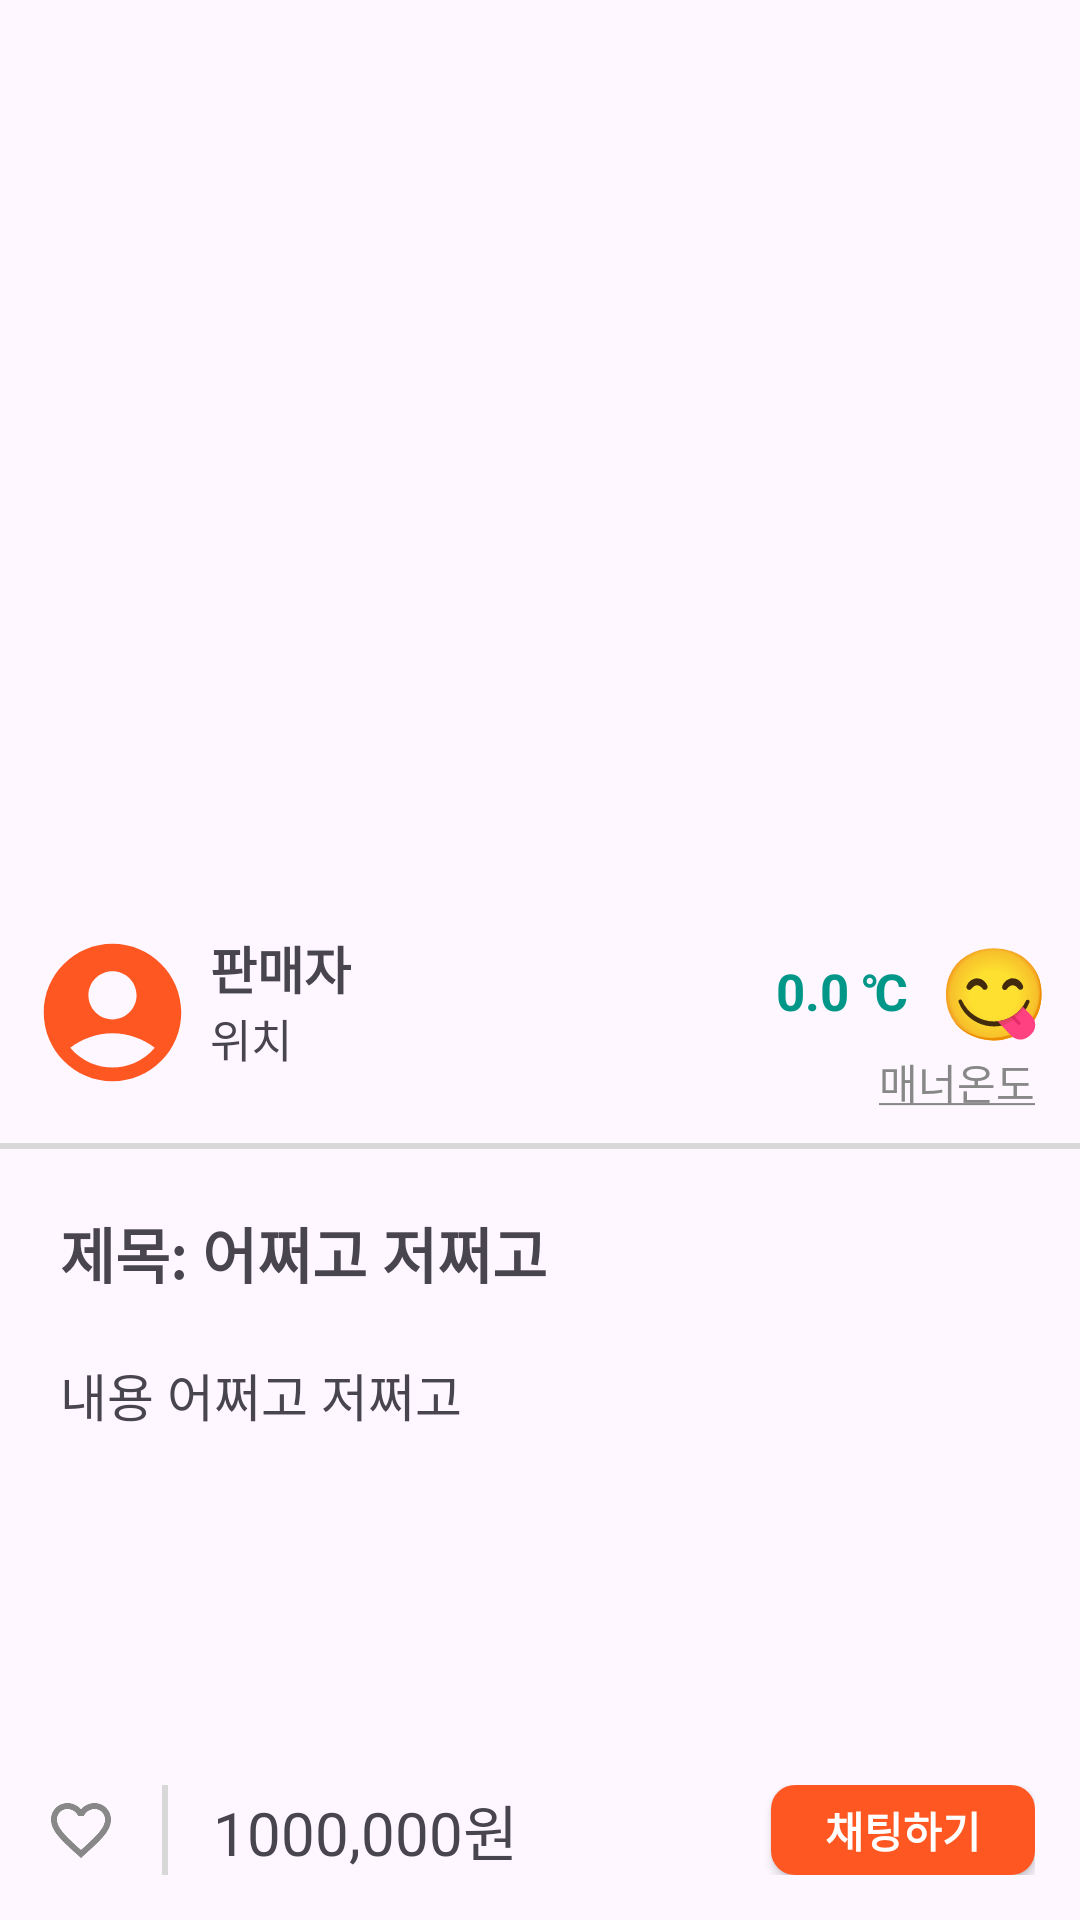

Icons on this 1080 x 1920 Android screen, each with the point to tap as [x,y]:
account circle: [112,1012]
favorite border: [81,1830]
